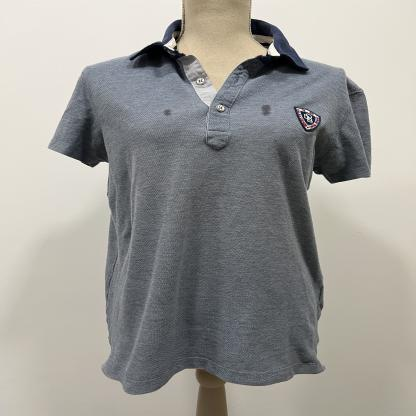stain: (258, 104, 274, 117), (162, 108, 174, 117)
